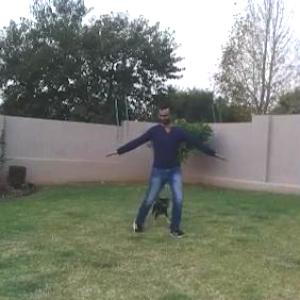land: (115, 113, 217, 232)
